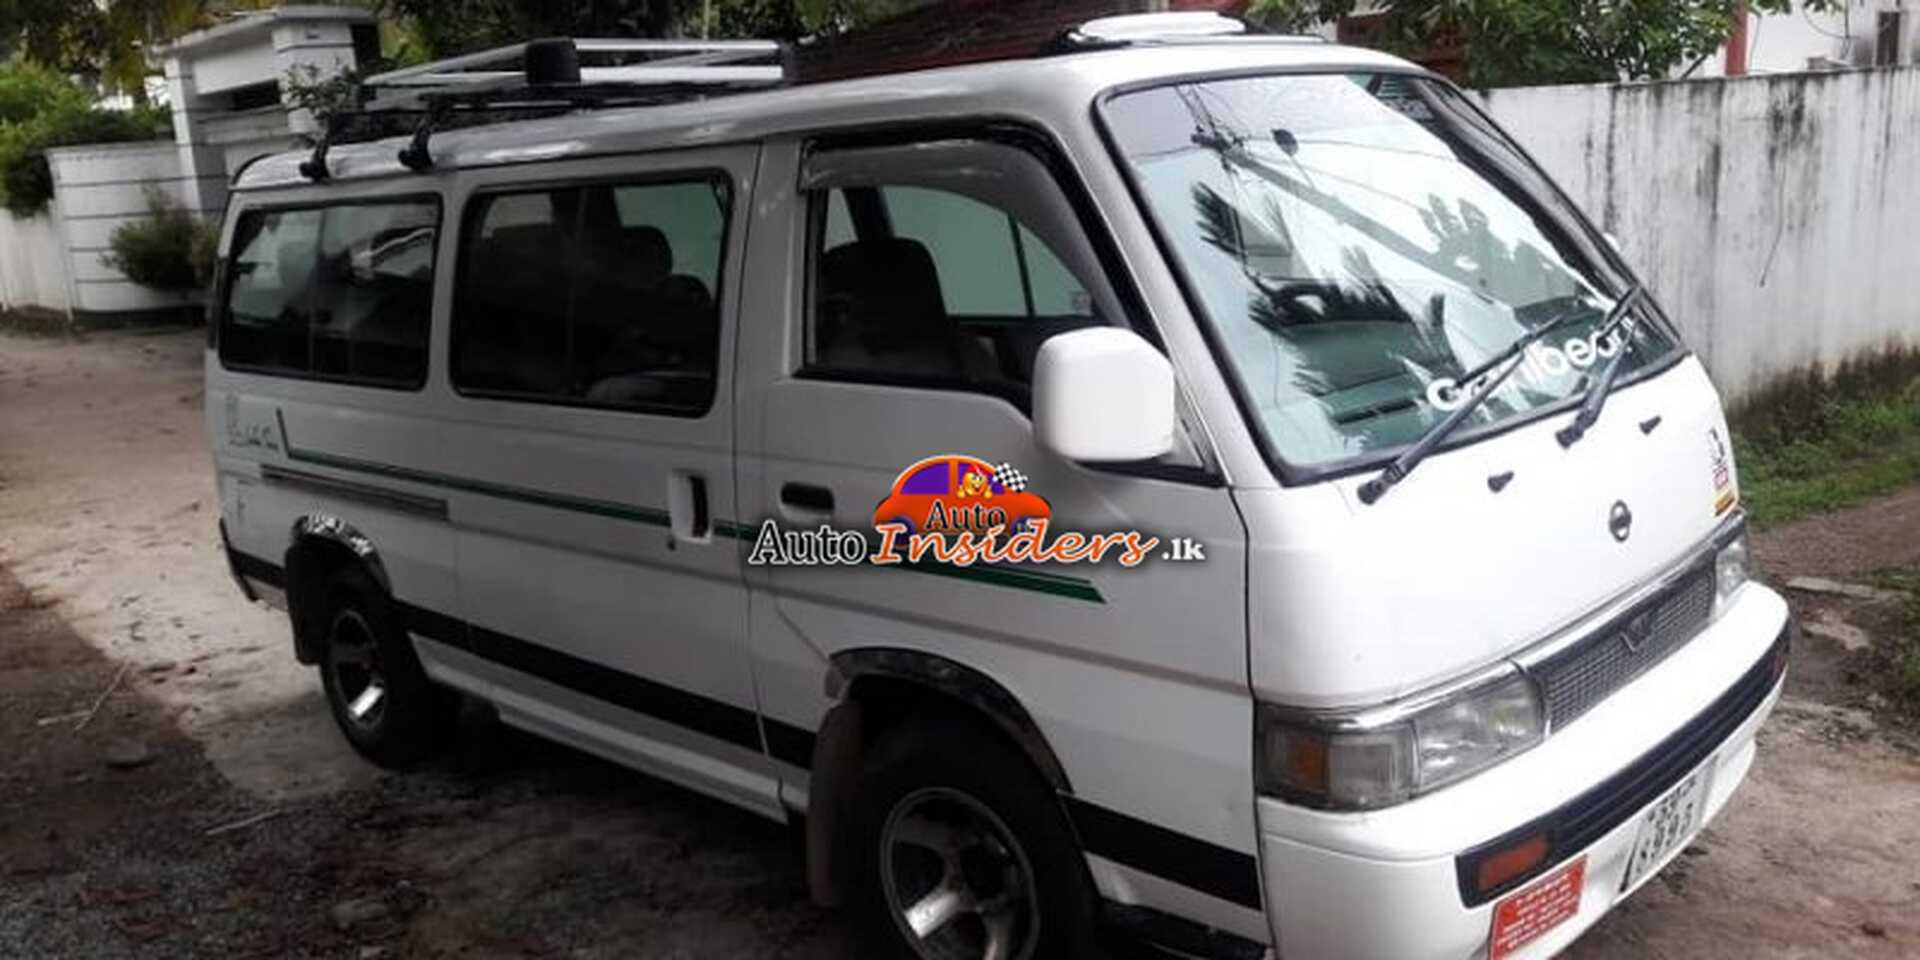van: (189, 55, 1798, 960)
